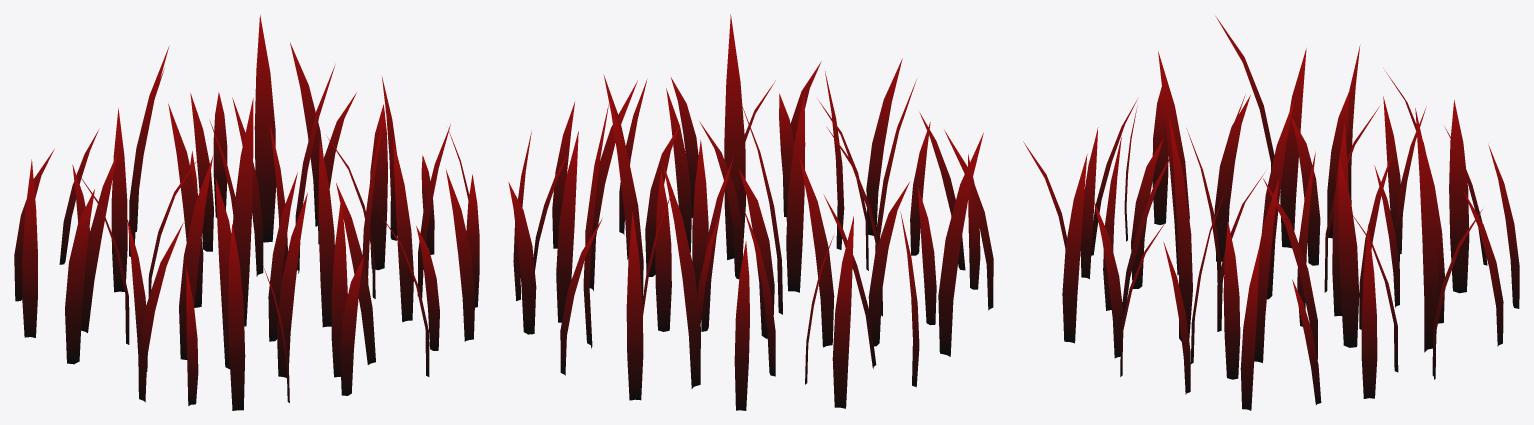
The model's file is Grass_01.fbx.
3 views of the same model, side by side, from view 1: azimuth 30°, elevation 25°; view 2: azimuth 150°, elevation 25°; view 3: azimuth 270°, elevation 25° (orthographic). The views are drawn at different scales.
Parts seen in each view (by area): view 1: Grass_LOD0; view 2: Grass_LOD0; view 3: Grass_LOD0.
Boxes of the visible parts, <box> form: Grass_LOD0: <box>14,15,479,410</box>; Grass_LOD0: <box>508,14,993,410</box>; Grass_LOD0: <box>1023,16,1519,410</box>.
Size of what is drawn, in the model's own units: 0.9174 by 0.5095 by 0.966.
